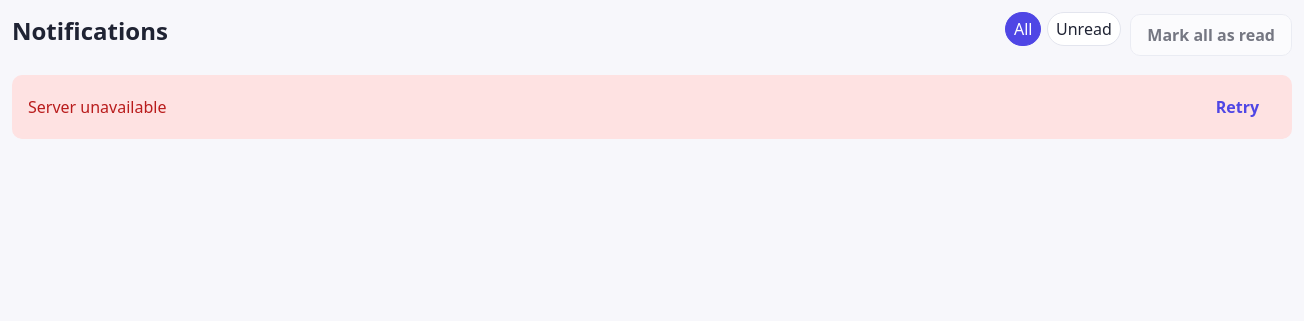
NotificationsPage › shows load and action errors with retry
The width and height of the screenshot is (1304, 321).
Expected: the message shows "Server unavailable", [28,96,166,118]
Click the button "Retry" at [1237, 107], box [1199,86,1276,128]
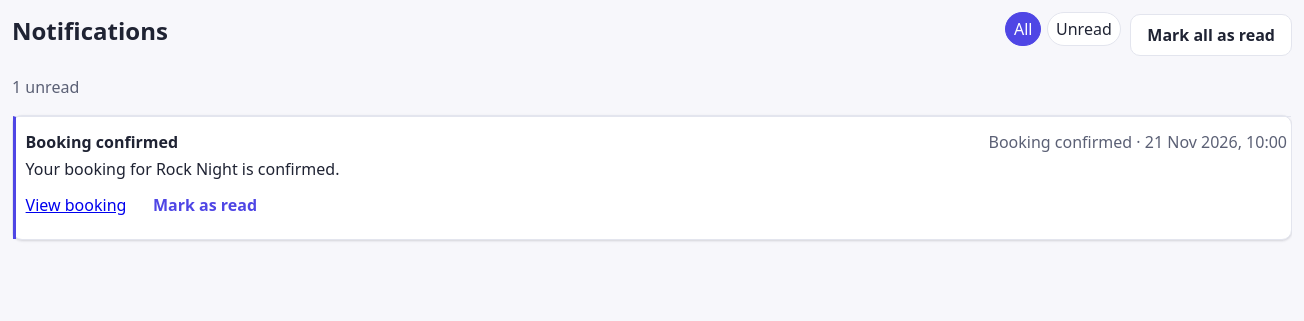
Expected: the text "Booking confirmed" is shown, [26,130,178,154]
Click the button "Mark as read" at [205, 205], box [136,184,274,226]
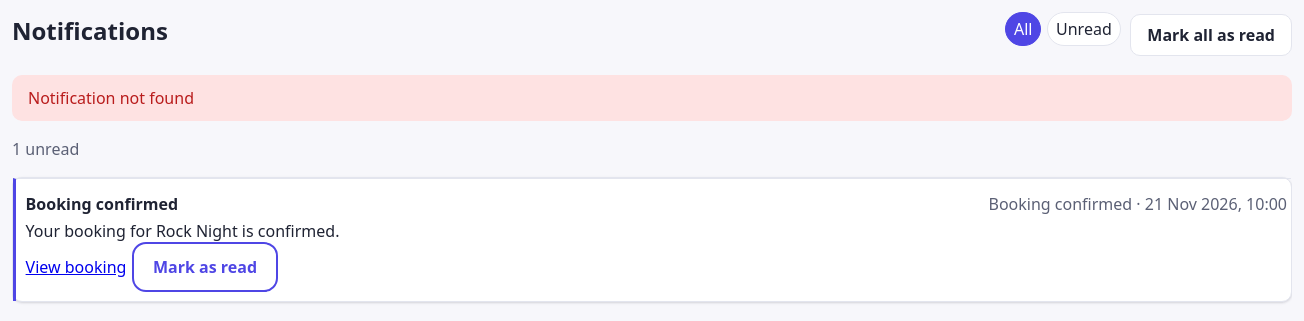
Expected: the message reads "Notification not found", [28,87,194,109]
